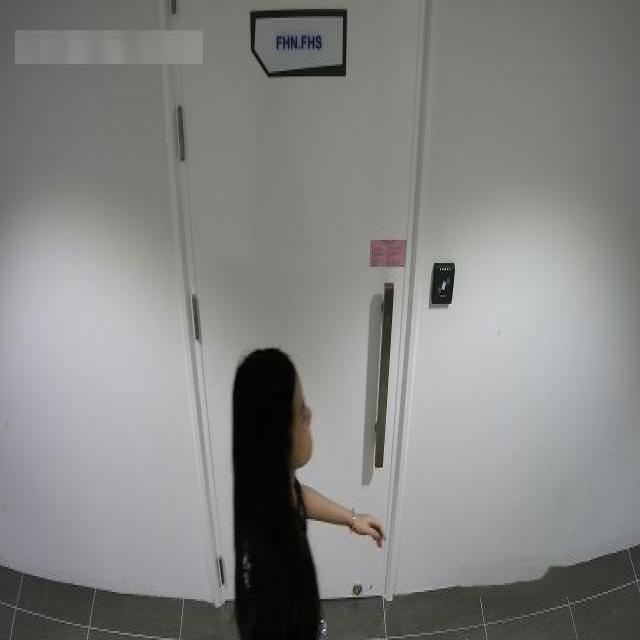bare_hand: (341, 505, 405, 565)
